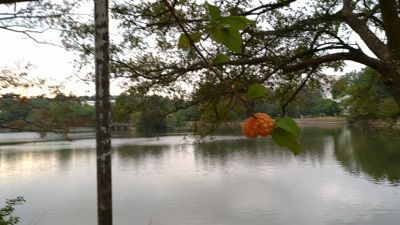eggs: (242, 111, 278, 140)
